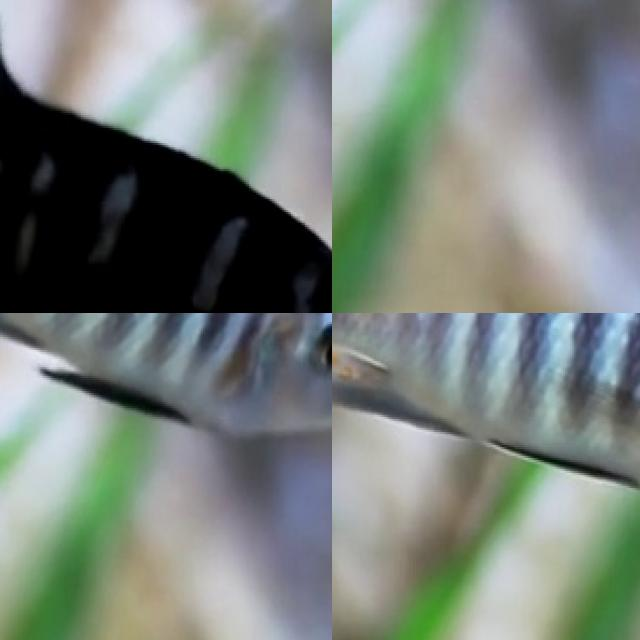fish: (0, 0, 332, 313), (332, 313, 640, 494)
